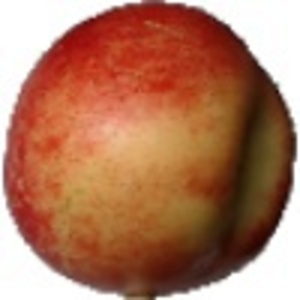nectarina: (2, 1, 300, 300)
